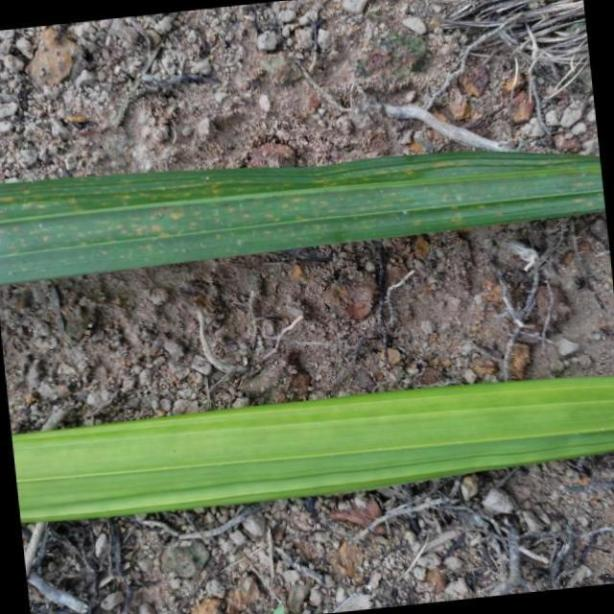nitrogen: (0, 367, 614, 528), (0, 144, 614, 289)
